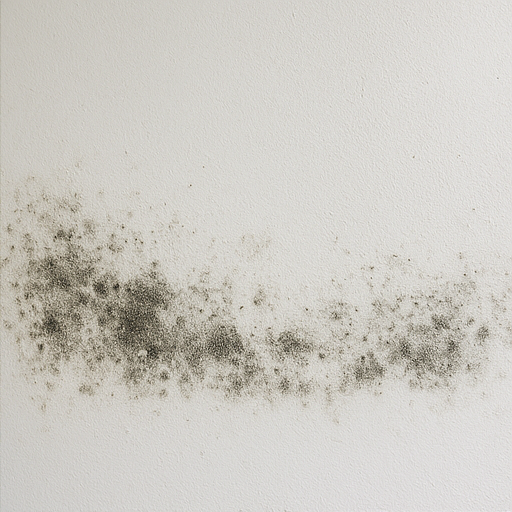schimmel: (38, 260, 166, 352), (374, 307, 470, 379), (207, 326, 267, 392), (114, 353, 185, 367), (285, 332, 307, 359)
